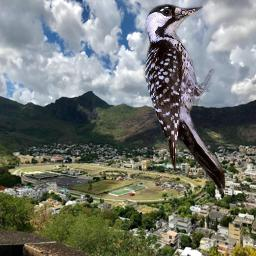Woodpecker: (143, 4, 225, 194)
